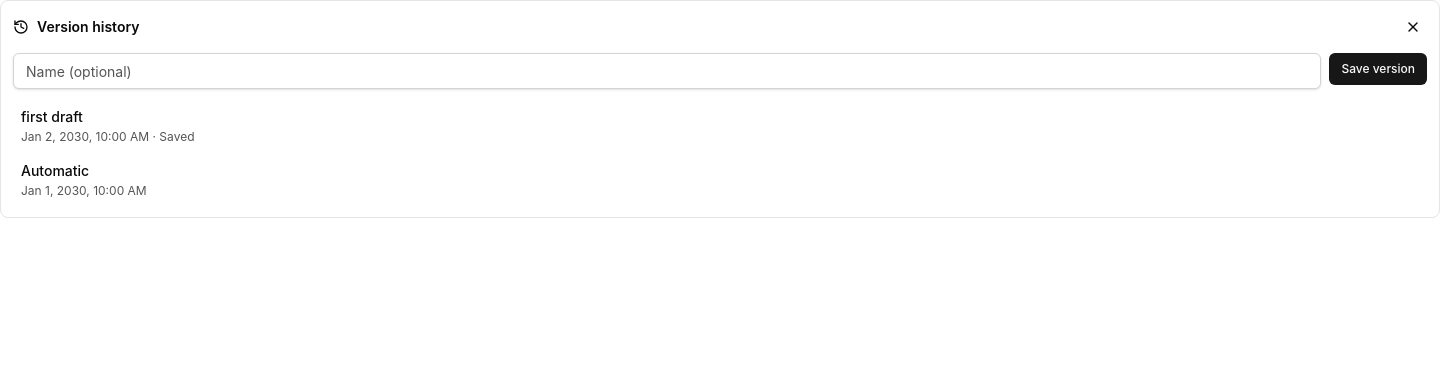
Test: VersionsPanel › lists the snapshots and previews the one that is picked
Click the button "first draft Jan 2, 2030, 10:00 AM · Saved": (52, 116) [13, 101, 1427, 151]
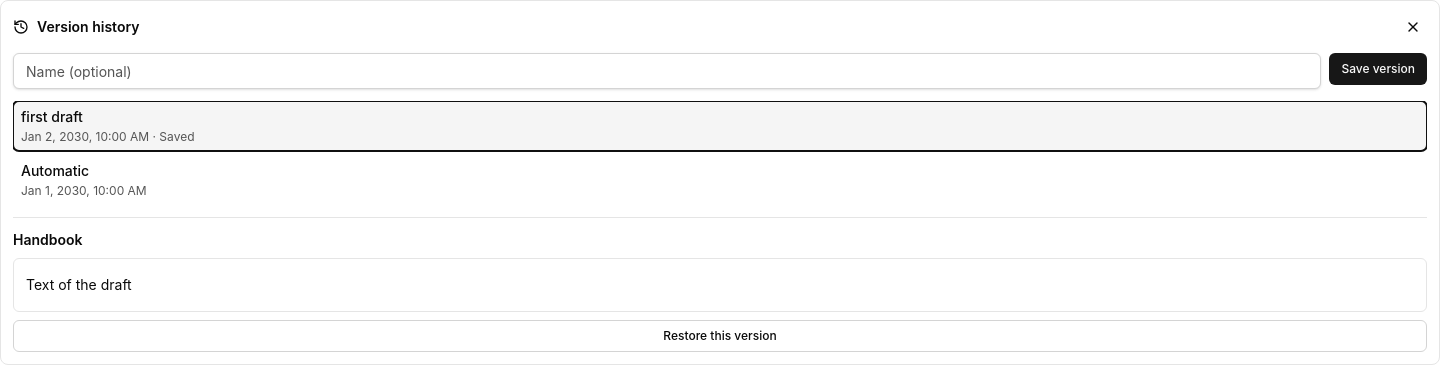
Expected: the text "Text of the draft" is shown, [26, 276, 132, 293]
Expected: the button "Restore this version" is shown, [13, 320, 1427, 352]
